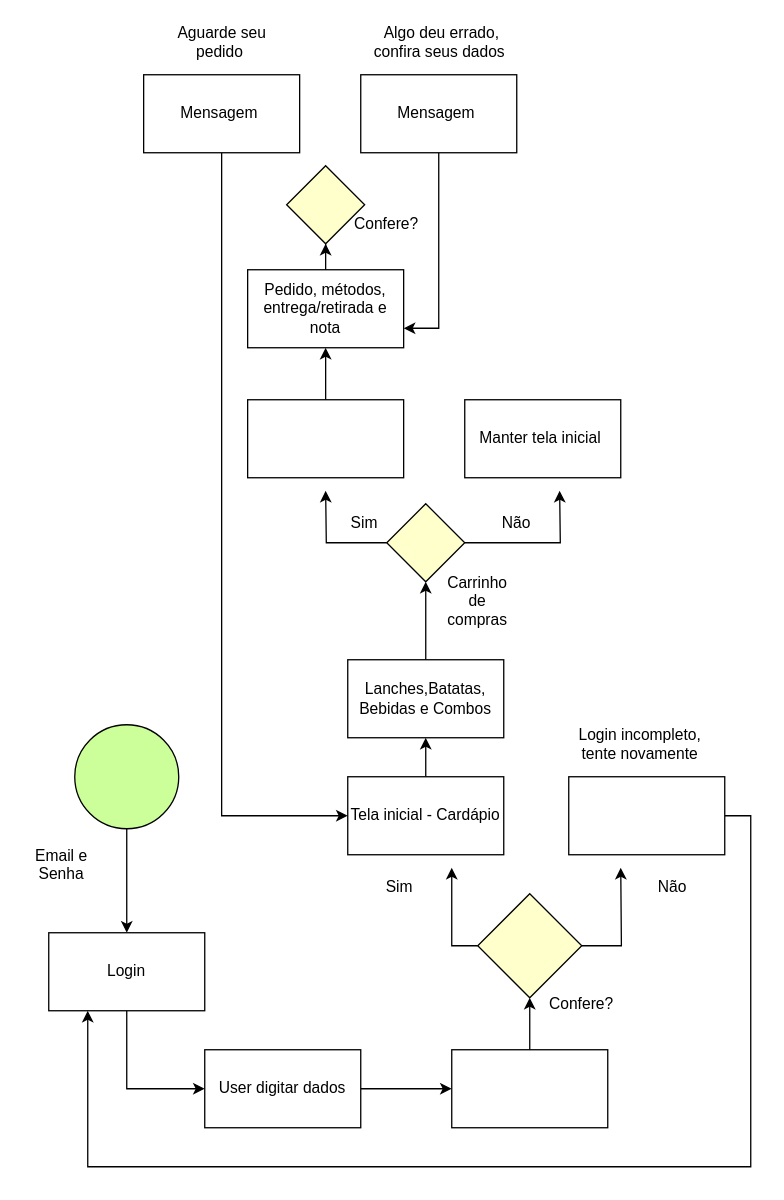
This 784x1200 diagram has some shape labels left out. The centre of each missing label's shape, as x and y in pixels:
INÍCIO: point 126,776
Mensagem de erro: point 646,815
Recuperar dados: point 529,1088
Tela de compra: point 325,438
